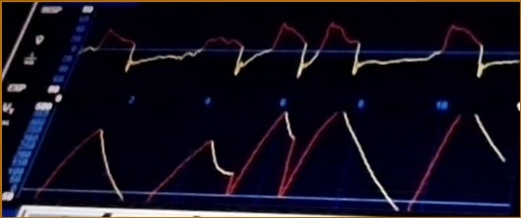Double_Triggering Flow: (91, 16, 499, 85)
Double_Triggering Volume: (65, 110, 508, 204)
